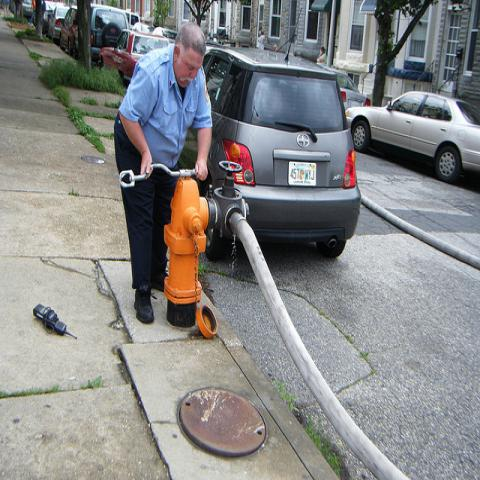car: (175, 8, 361, 262), (345, 89, 479, 182), (95, 24, 165, 80), (319, 63, 373, 117), (90, 4, 130, 51), (60, 6, 78, 56), (48, 6, 70, 41), (151, 27, 178, 44), (123, 12, 140, 31)
